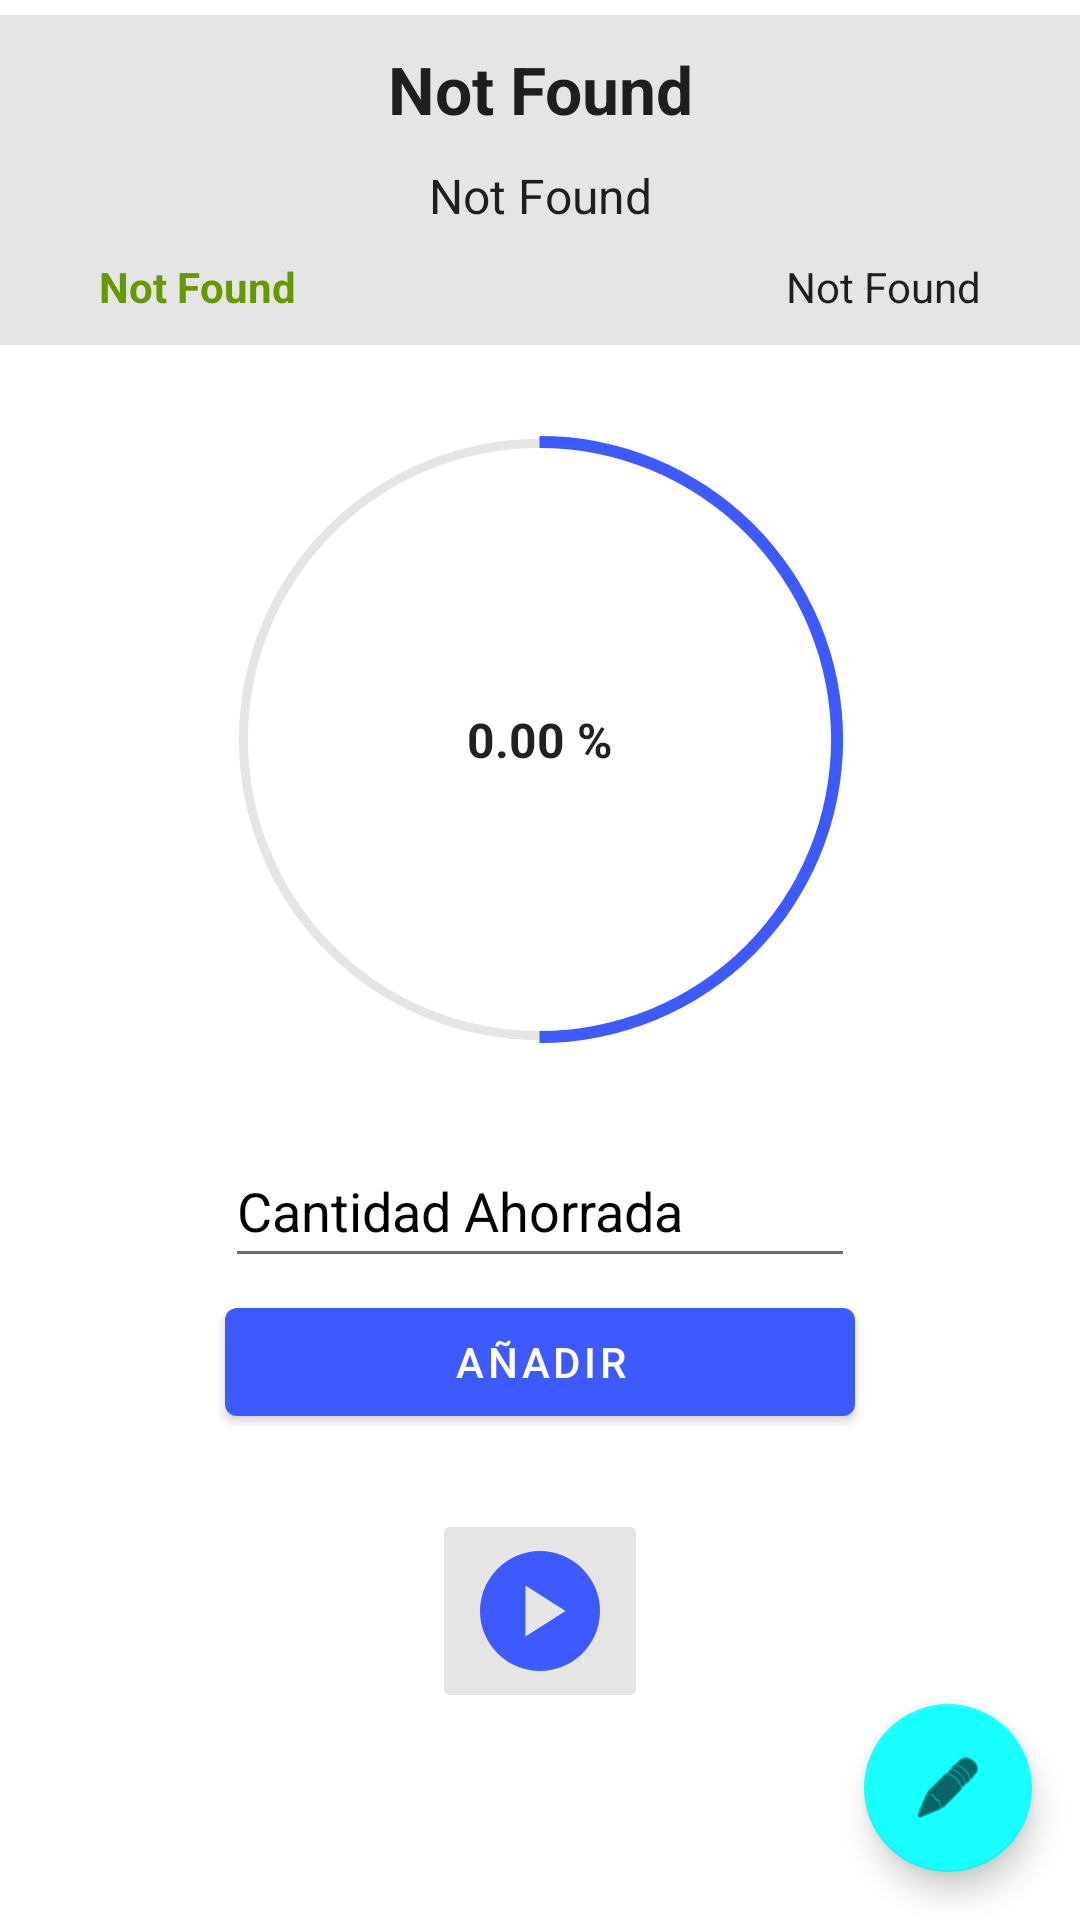

Icon click points for this 1080×1920 phone screenshot, format [x,y]:
Editar: [948,1788]
